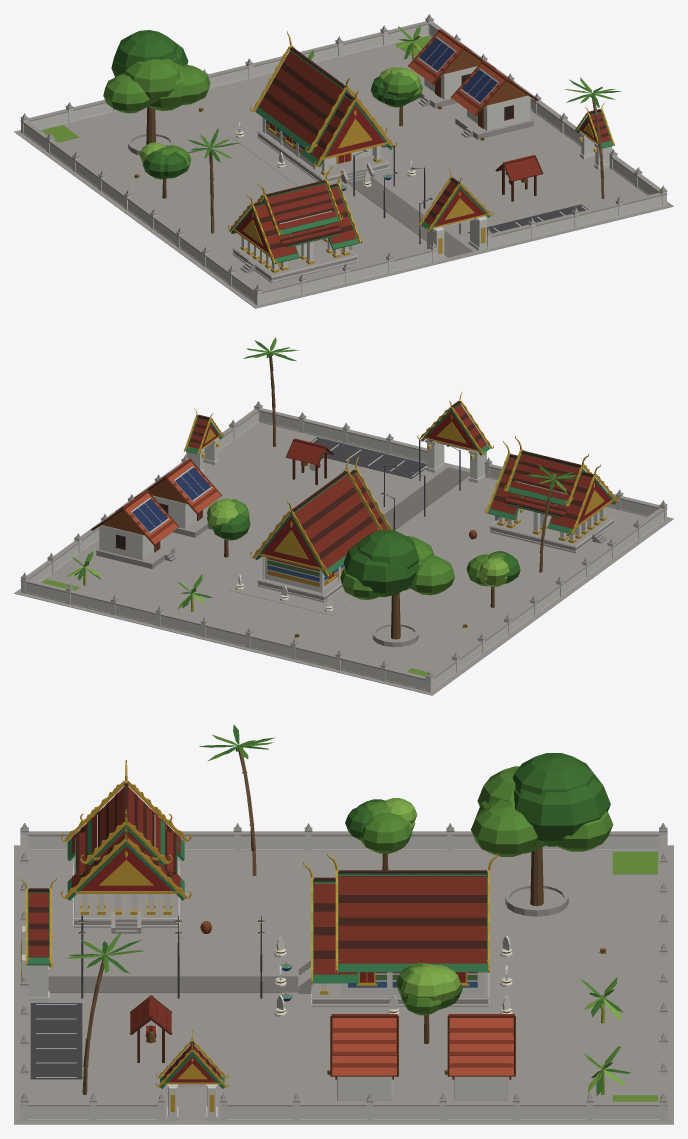
The model's file is temple_1.glb.
3 renders of one model, top to bottom at view 1: azimuth 30°, elevation 25°; view 2: azimuth 150°, elevation 25°; view 3: azimuth 270°, elevation 25°, orthographic. The views are drawn at different scales.
Visible parts, largest first — view 1: body; view 2: body; view 3: body.
Boxes of the visible parts, left/top/right/bottom form: body: left=14, top=14, right=673, bottom=308; body: left=14, top=337, right=673, bottom=695; body: left=14, top=724, right=673, bottom=1124.
Size of the model in its own units: 47.9 by 12.13 by 47.9.
